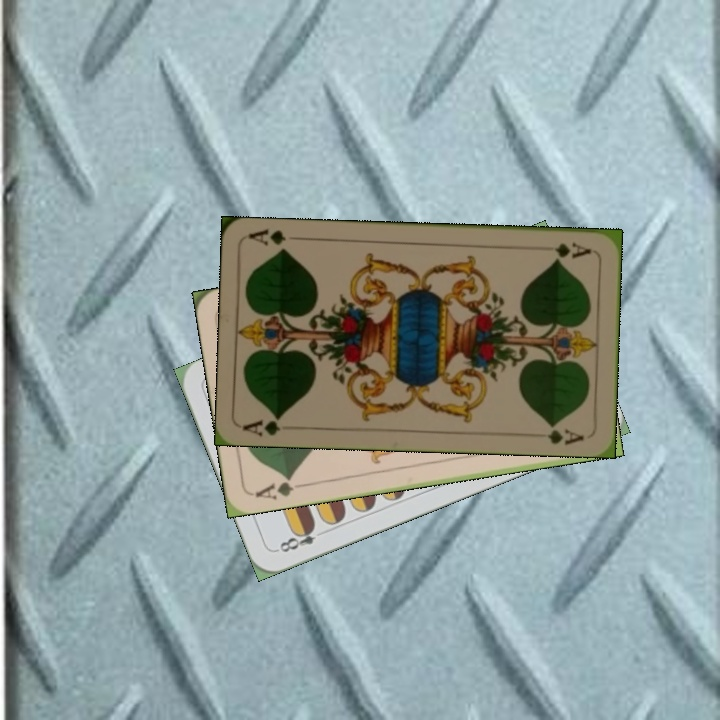E8: (273, 521, 319, 555)
GA: (251, 472, 308, 502), (536, 238, 594, 261), (240, 411, 284, 438)
